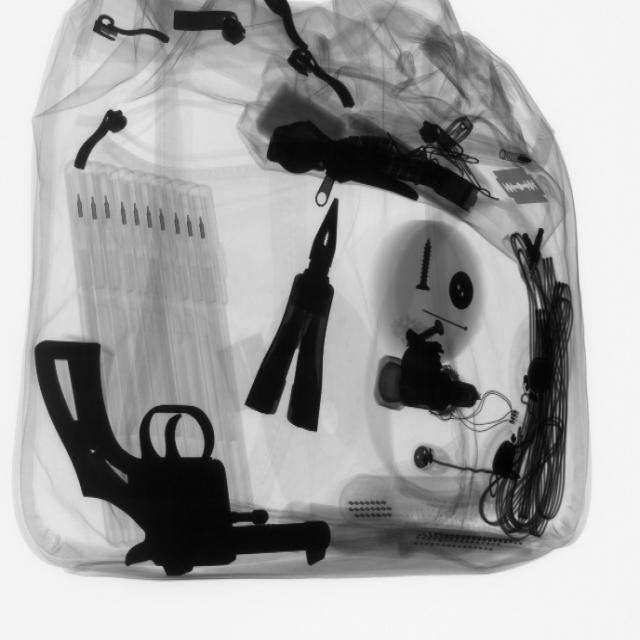BLADE: (495, 161, 547, 213)
GUN: (34, 336, 337, 572)
SCREW: (403, 229, 450, 301)
